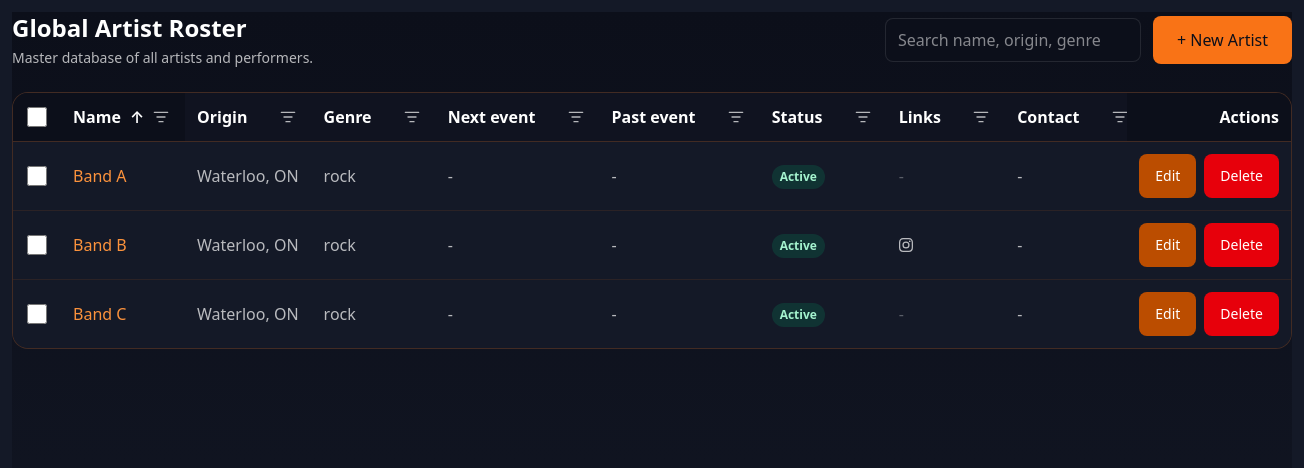
Test: RosterTab — bulk actions scope to visible rows (#711) › Finding 1: bulk bar NOT visible when effectiveSelectedIds is empty (search hides all)
Select Band A only
Click the checkbox named "Select all visible artists": x=37, y=117 [27,107,47,127]
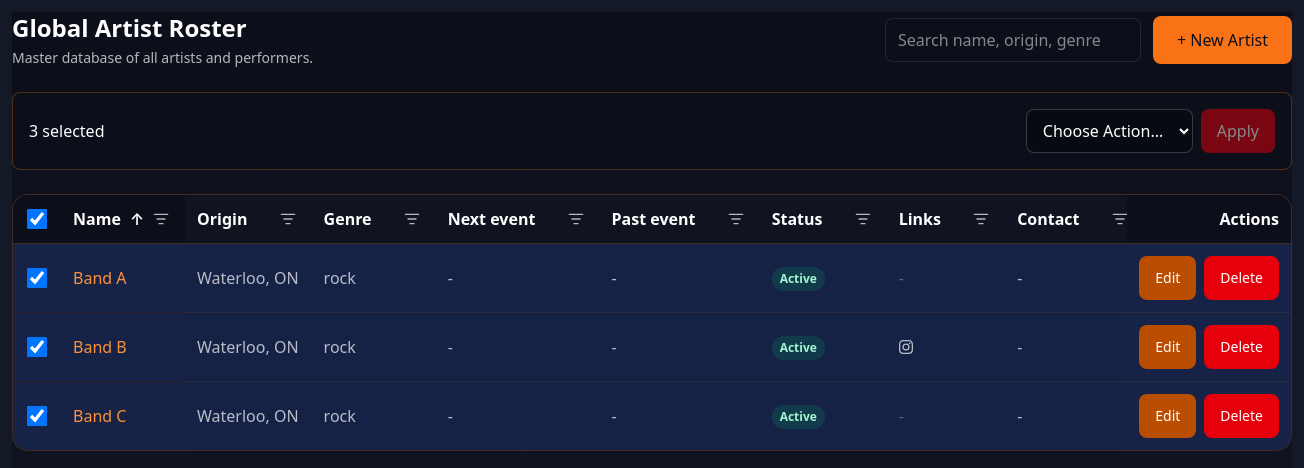
Click the checkbox named "Select all visible artists": x=37, y=219 [27,209,47,229]
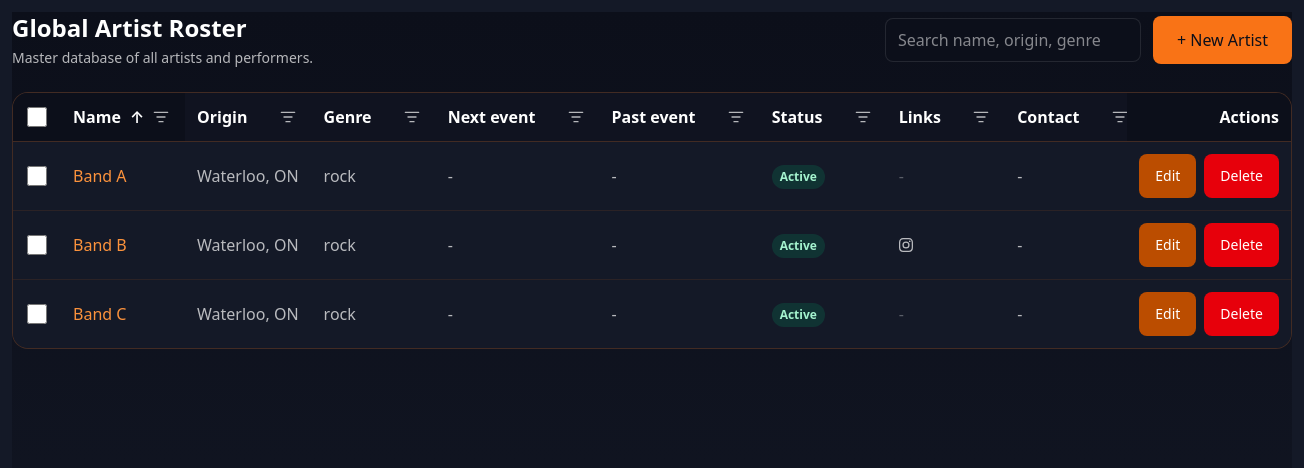
Now manually select just A
Click the checkbox named "Select Band A": x=37, y=176 [27,166,47,186]
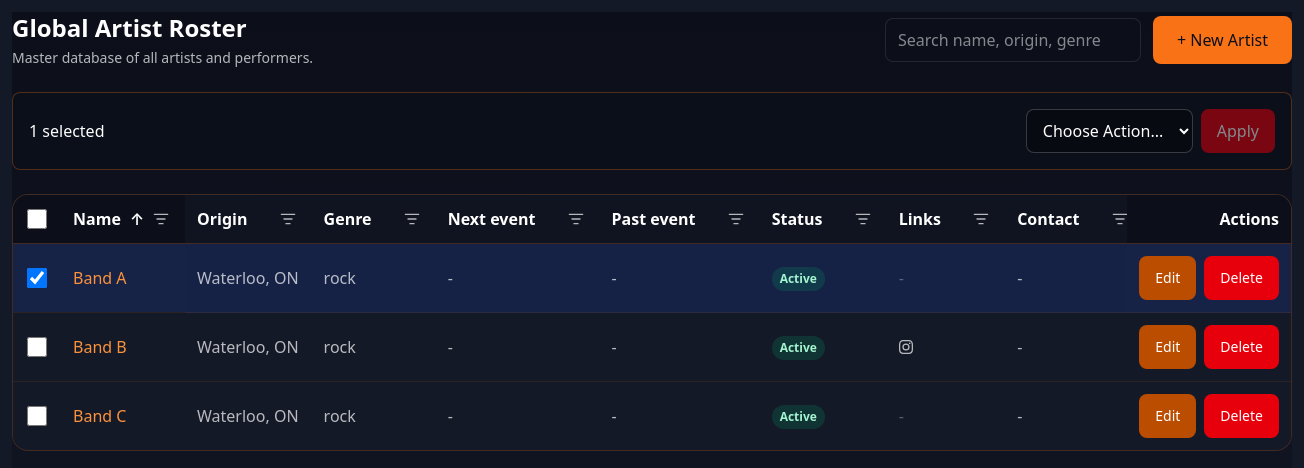
In the field with placeholder "Search name, origin, genre": x=1013, y=40 [885,18,1141,62], type "Band B"
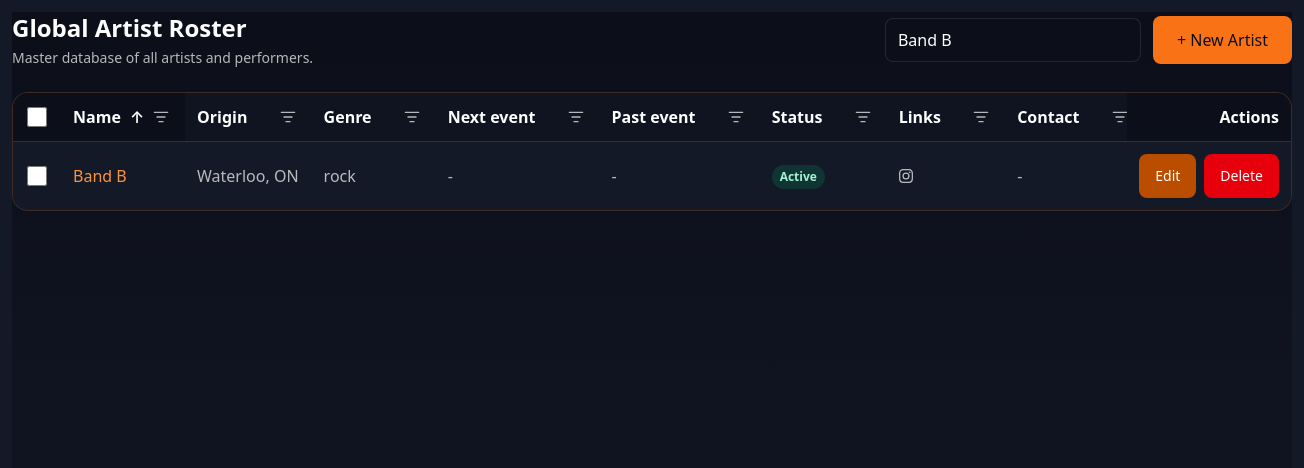
Now the text "selected" is gone
